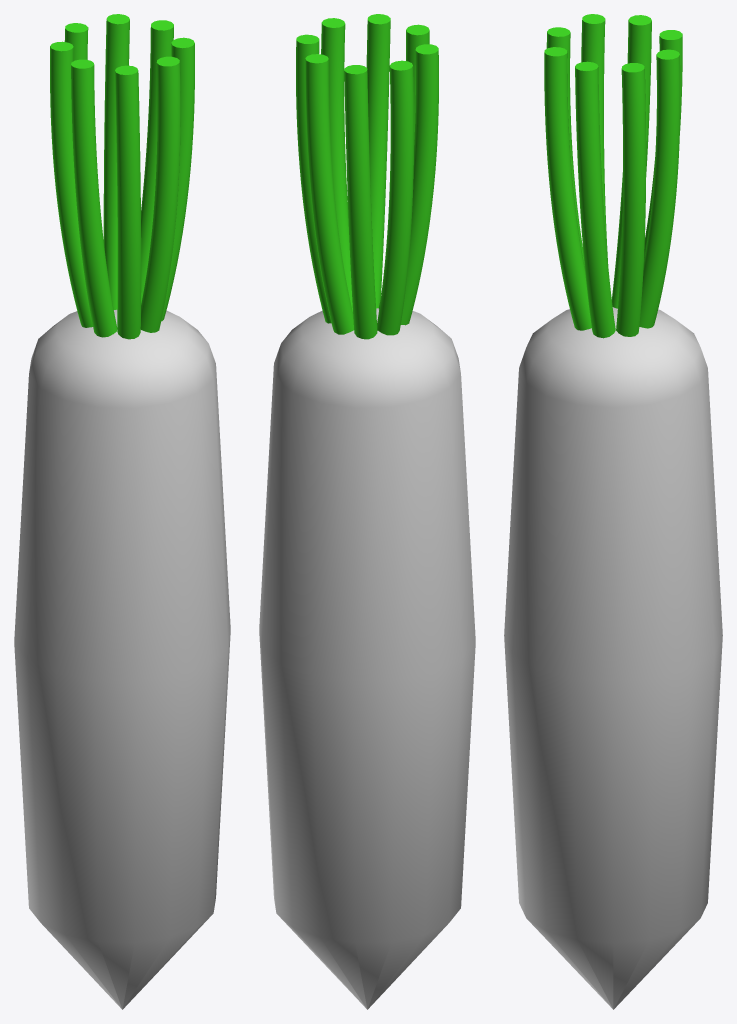
3 views of the same model, side by side, from view 1: azimuth 30°, elevation 25°; view 2: azimuth 150°, elevation 25°; view 3: azimuth 270°, elevation 25° (orthographic).
Visible parts, largest first — view 1: Sphere, NurbsPath; view 2: Sphere, NurbsPath; view 3: Sphere, NurbsPath.
Boxes of the visible parts, x1=… form: Sphere: x1=14, y1=309, x2=230, y2=1009; NurbsPath: x1=50, y1=14, x2=194, y2=339; Sphere: x1=259, y1=308, x2=475, y2=1009; NurbsPath: x1=296, y1=14, x2=438, y2=339; Sphere: x1=504, y1=307, x2=722, y2=1009; NurbsPath: x1=544, y1=14, x2=682, y2=338.
Bounding box in the file's own units: 0.9264 × 4.52 × 0.9264.
